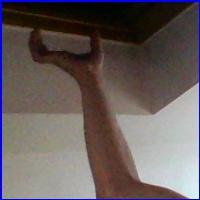space: (20, 26, 111, 76)
